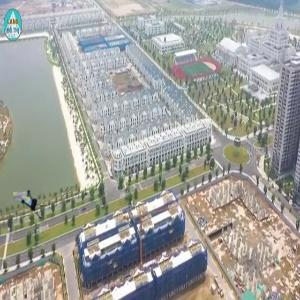drone: (15, 189, 53, 227)
